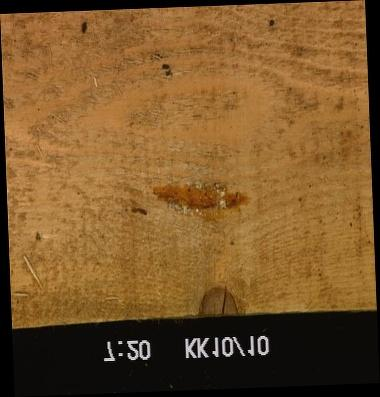edge_knot: (193, 286, 239, 316)
